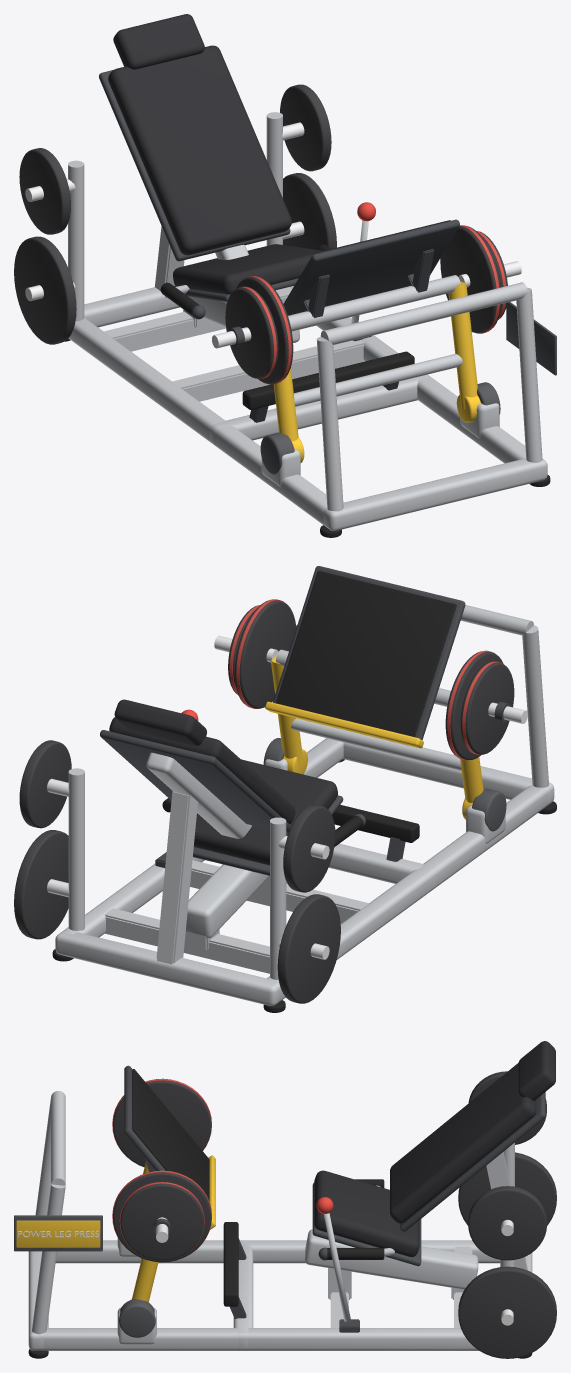
File: PowerLegPress_MachineOnly_Ani.fbx
3 renders of one model, top to bottom at view 1: azimuth 30°, elevation 25°; view 2: azimuth 150°, elevation 25°; view 3: azimuth 270°, elevation 25°, orthographic. The views are drawn at different scales.
Visible parts, largest first — view 1: Backrest, Base_Rail_L, FootPlate, Base_Cross_Front, Stored_Plate_L1, Seat, Base_Cross_Mid, Headrest, Front_Guard_Top, Base_Rail_R, Base_Cross_Seat_Front, Stored_Plate_L2 (+25 smaller); view 2: FootPlate_Grip, Base_Rail_L, Base_Cross_Back, Stored_Plate_L1, Backrest_Shell, Stored_Plate_R1, Backrest_Rear_Strut, Seat, Plate_R1, Base_Rail_R, Base_Cross_Seat_Back, Stored_Plate_L2 (+23 smaller); view 3: Backrest, Base_Rail_R, Stored_Plate_R1, Seat, Plate_R2, Stored_Plate_R2, FootPlate_Grip, Seat_Frame, Base_Rail_L, Plate_L1, Stored_Plate_L1, Placard (+22 smaller).
Part boxes in pixels (x1,y1,x2,y2): Backrest: (108,45,291,255); Base_Rail_L: (68,317,327,526); FootPlate: (283,219,459,315); Base_Cross_Front: (323,458,547,530); Stored_Plate_L1: (14,236,76,344); Seat: (173,244,323,294); Base_Cross_Mid: (210,375,431,446); Headrest: (113,14,204,69); Front_Guard_Top: (320,282,527,344); Base_Rail_R: (289,286,526,463); Base_Cross_Seat_Front: (172,340,364,401); Stored_Plate_L2: (19,148,70,234); FootPlate_Grip: (276,571,456,737); Base_Rail_L: (265,785,549,1001); Base_Cross_Back: (55,930,282,1005); Stored_Plate_L1: (277,894,340,1003); Backrest_Shell: (100,730,291,833); Stored_Plate_R1: (14,830,68,939); Backrest_Rear_Strut: (156,791,197,964); Seat: (193,759,337,865); Plate_R1: (234,599,296,708); Base_Rail_R: (62,738,343,937); Base_Cross_Seat_Back: (104,908,269,973); Stored_Plate_L2: (283,804,335,892); Backrest: (390,1063,536,1223); Base_Rail_R: (38,1328,478,1350); Stored_Plate_R1: (458,1266,556,1358); Seat: (314,1170,419,1257); Plate_R2: (120,1182,203,1260); Stored_Plate_R2: (468,1186,546,1260); FootPlate_Grip: (132,1069,209,1201); Seat_Frame: (305,1229,478,1289); Base_Rail_L: (55,1240,500,1263); Plate_L1: (113,1078,211,1167); Stored_Plate_L1: (458,1152,556,1225); Placard: (16,1220,100,1247).
Bounding box in the file's own units: 128 × 113 × 220.
